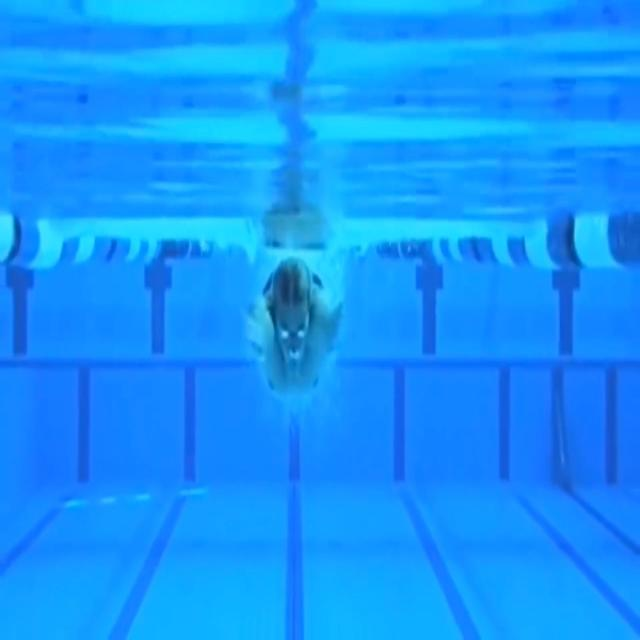Swimming: (248, 258, 345, 401)
